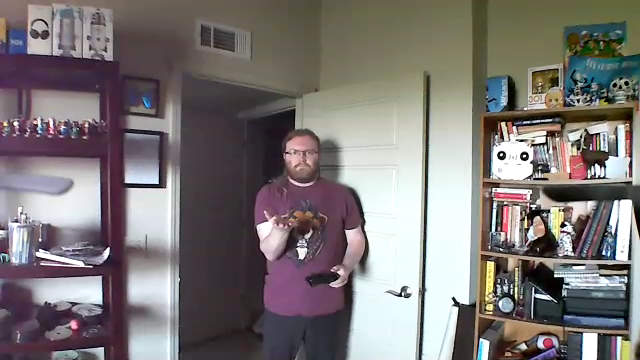land: (262, 212, 297, 230)
